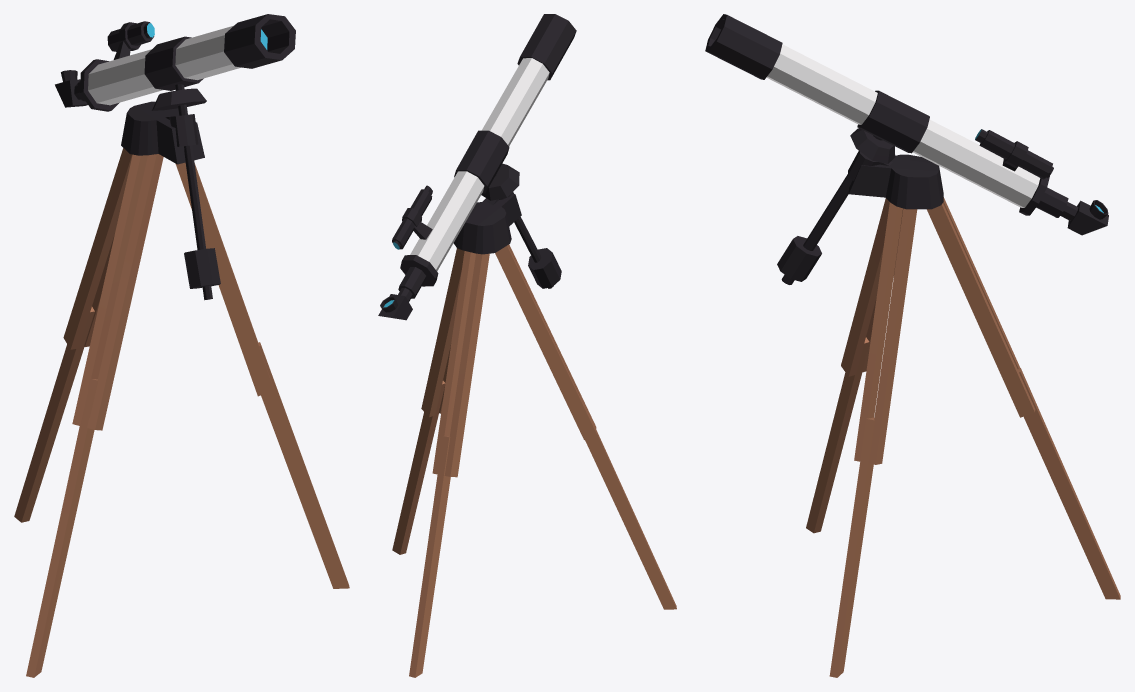
Rendered from RjyTCQvA8b.glb.
3 renders of one model, left to right at view 1: azimuth 30°, elevation 25°; view 2: azimuth 150°, elevation 25°; view 3: azimuth 270°, elevation 25°, orthographic. The views are drawn at different scales.
Parts seen in each view (by area): view 1: Telescope; view 2: Telescope; view 3: Telescope.
Part boxes in pixels (x1,y1,x2,y2): Telescope: [14, 14, 349, 677]; Telescope: [378, 14, 676, 677]; Telescope: [705, 14, 1120, 677].
Size of the model in its own units: 0.5127 by 0.9454 by 0.5937.
Materials: 1 (1 with a texture image).
